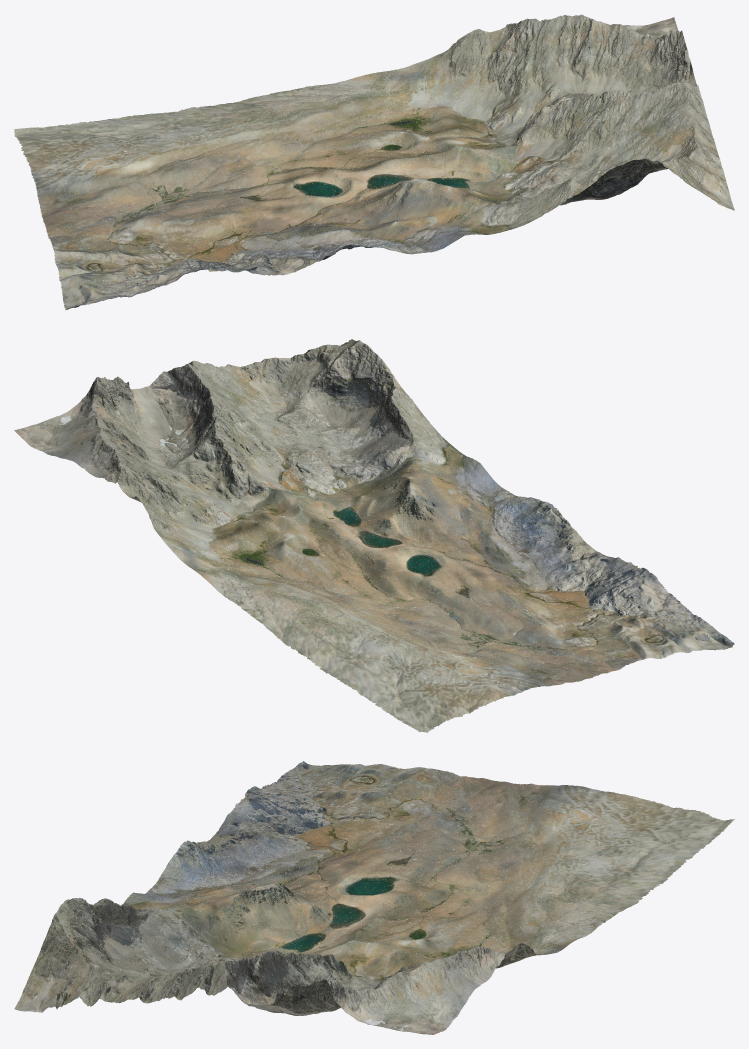
File: medium.glb
3 views of the same model, one above another, from view 1: azimuth 30°, elevation 25°; view 2: azimuth 150°, elevation 25°; view 3: azimuth 270°, elevation 25° (orthographic). The views are drawn at different scales.
Visible parts, largest first — view 1: buzul; view 2: buzul; view 3: buzul.
Part boxes in pixels (<box>): buzul: <box>14,14,734,309</box>; buzul: <box>14,339,734,732</box>; buzul: <box>14,761,734,1034</box>.
Bounding box in the file's own units: 3571 × 628 × 2855.
47 materials, 47 textured.
